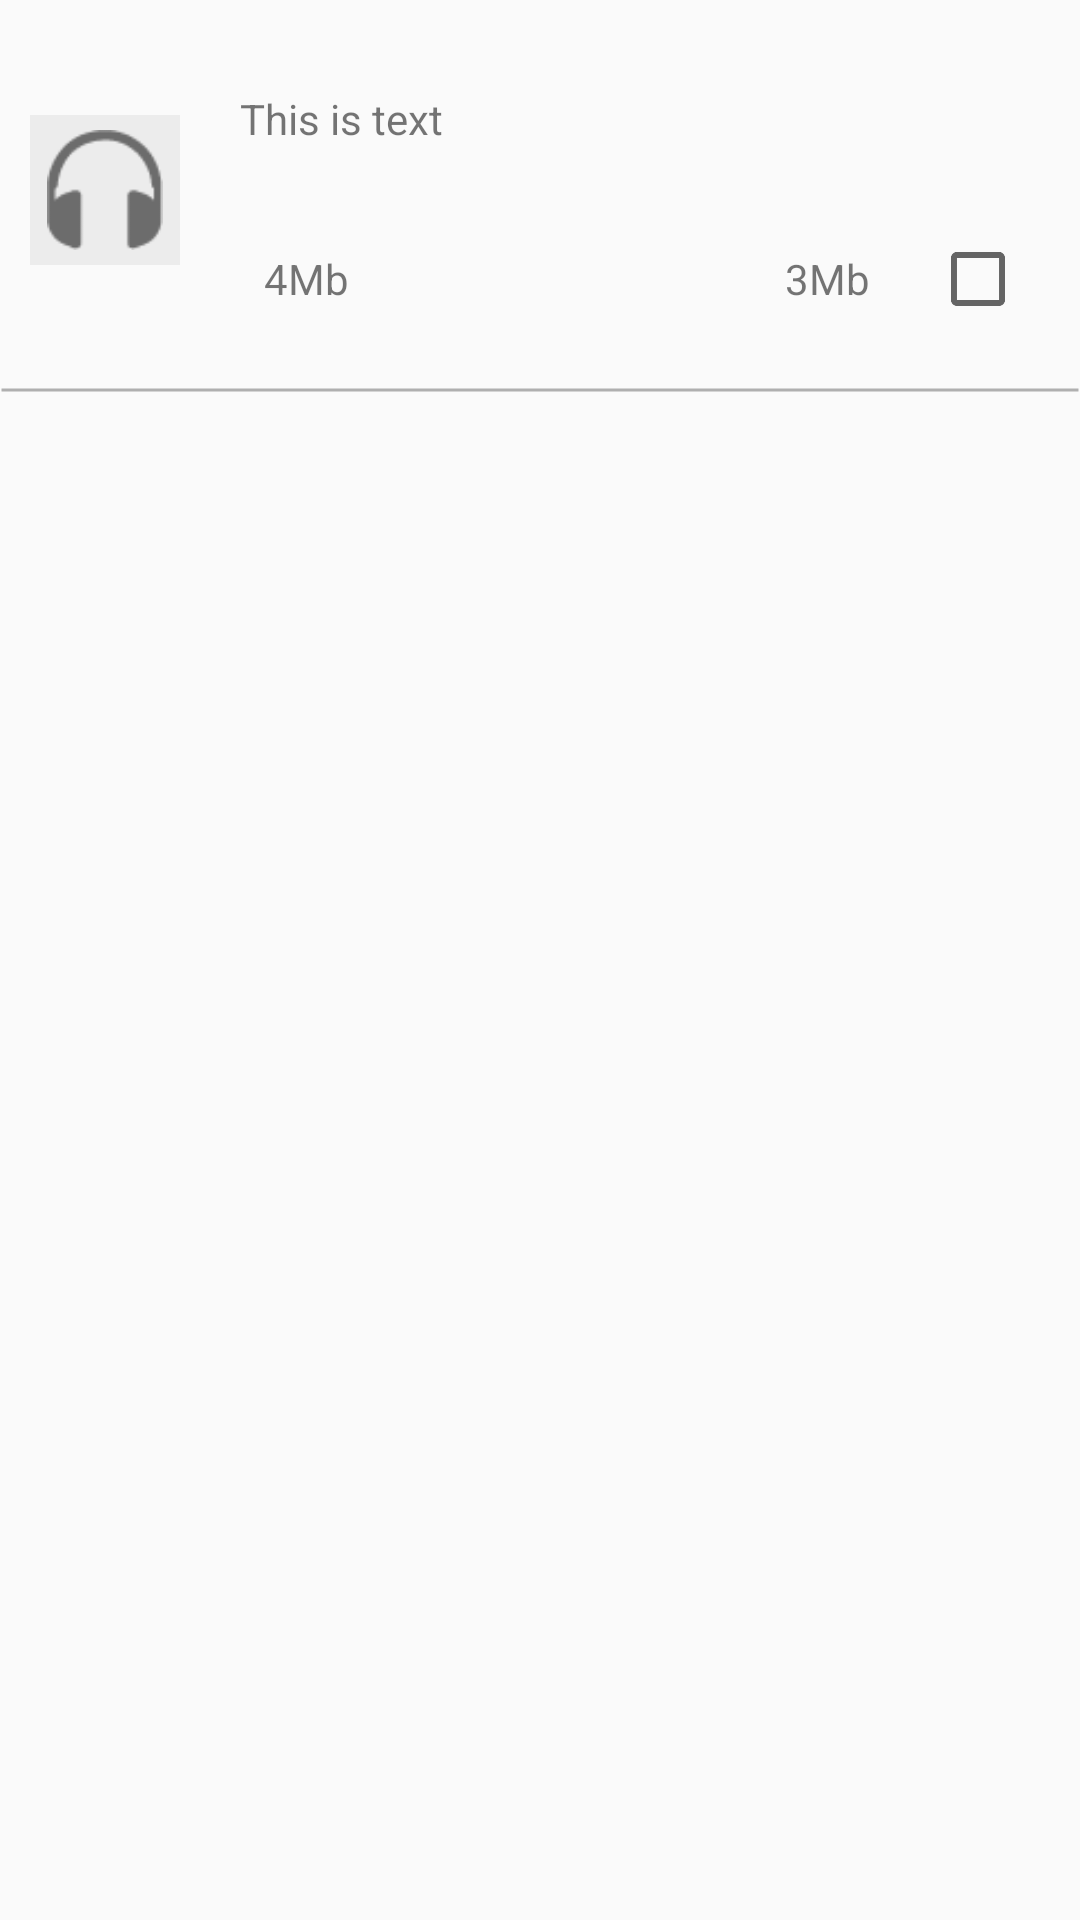

Named icons in this screenshot (1080 x 1920) and their bounding boxes, (x1, y1, x2, y2):
music: (47, 130, 163, 250)
